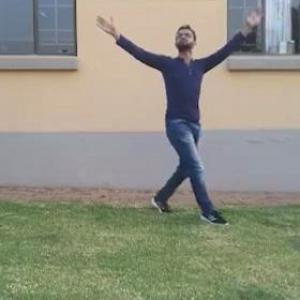takeoff: (102, 14, 264, 224)
